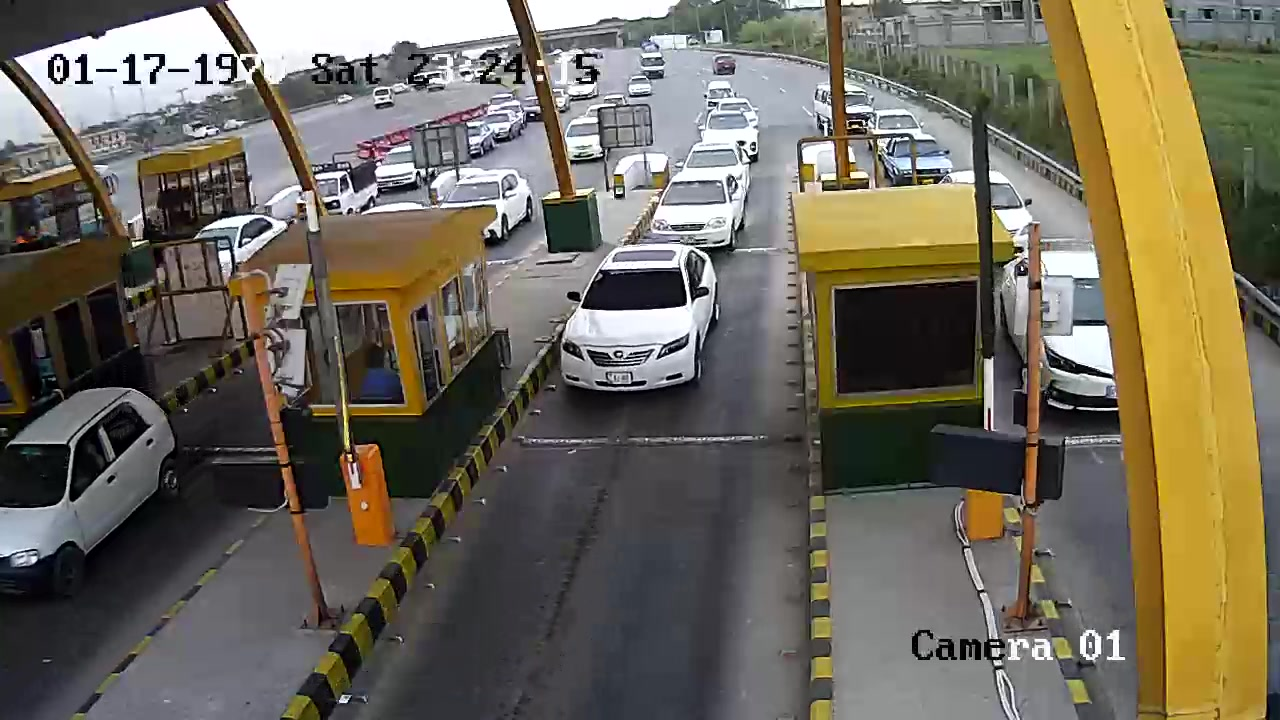F1: (556, 244, 734, 410)
